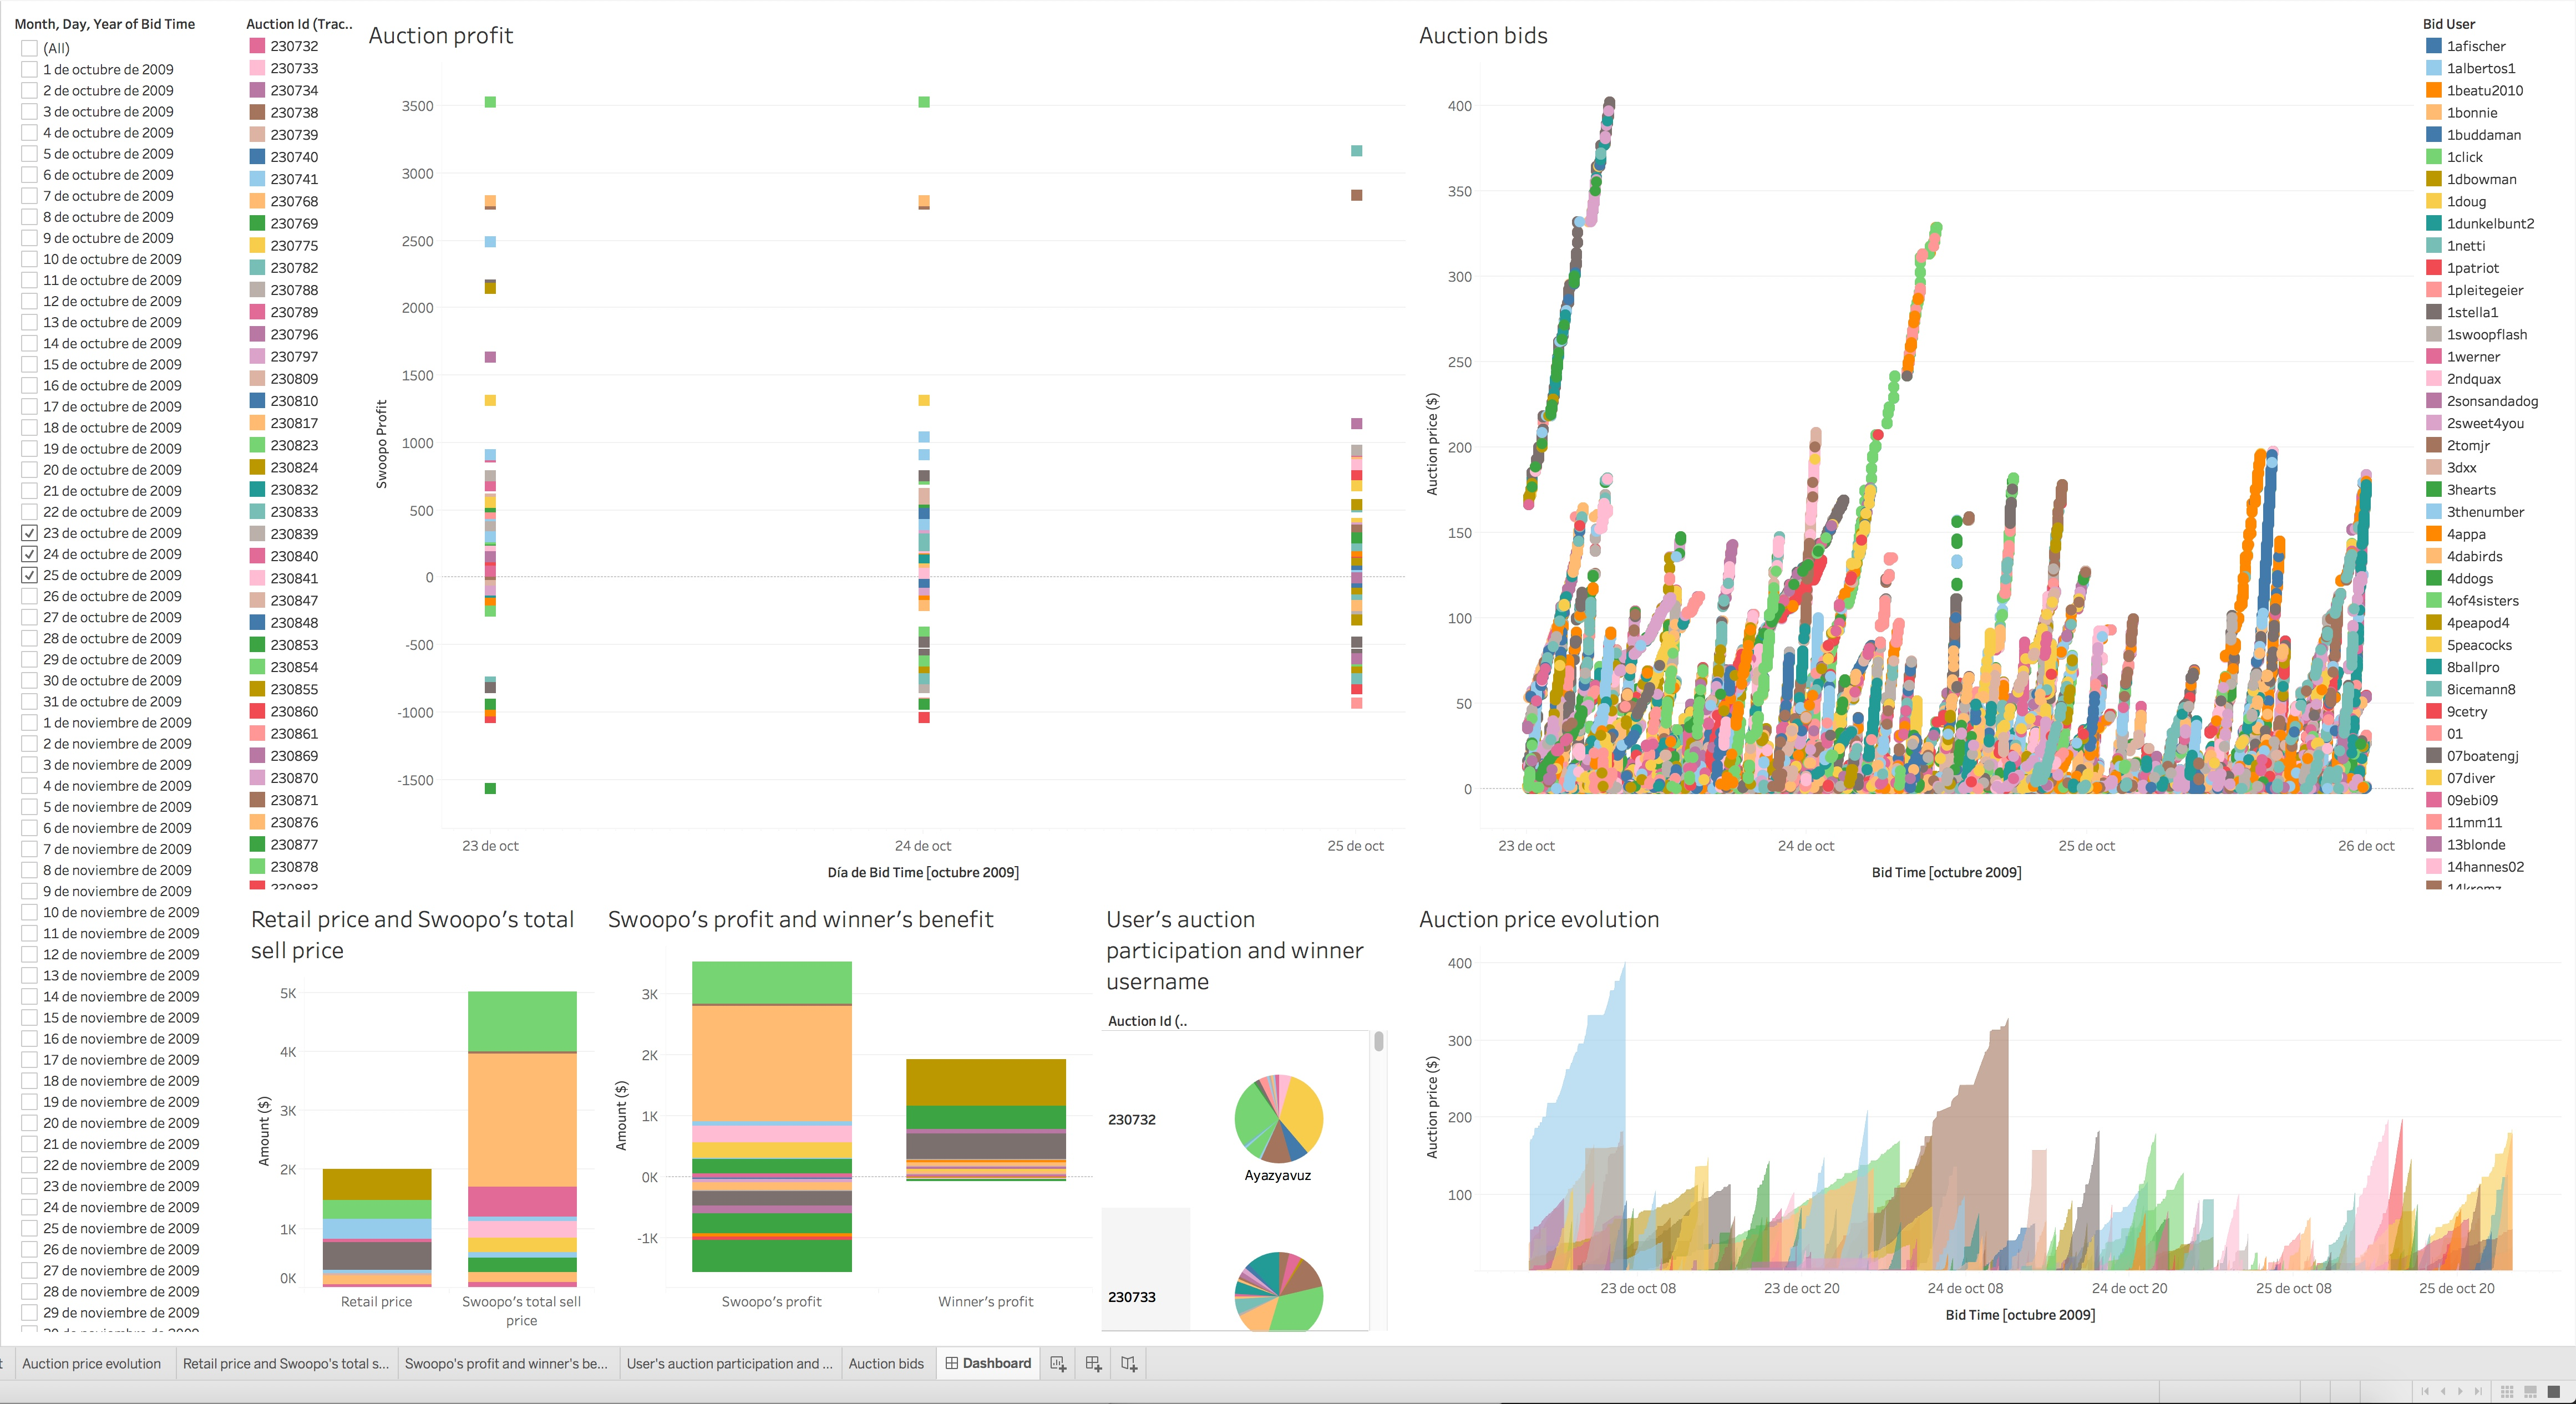

The dashboard page shown, as its layout file describes it:
{"tool":"tableau","page":{"name":"Dashboard","canvas":[1000,1000],"units":"permille","ordinal":0},"visuals":[{"type":"filter","title":"Auction profit","param":"[federated.0qq0jvo1fasi1912zp8rx17w9vlu].[md:bid_time:ok]","box":[3.5,6.6,90.1,986.8]},{"type":"legend","title":"Auction profit","param":"[federated.0qq0jvo1fasi1912zp8rx17w9vlu].[none:auction_id (traces_clean.tsv):ok]","box":[93.5,6.6,45.7,657.9]},{"type":"worksheet","title":"Auction profit","mark":"Square","rows":["swoopo_profit"],"cols":["bid_time"],"box":[139.2,6.6,408,657.9]},{"type":"worksheet","title":"Auction bids","mark":"Circle","rows":["bid_cp"],"cols":["bid_time"],"box":[547.3,6.6,392,657.9]},{"type":"legend","title":"User's auction participation and winner username","param":"[federated.0qq0jvo1fasi1912zp8rx17w9vlu].[none:bid_user:nk]","box":[939.2,6.6,57.3,657.9]},{"type":"worksheet","title":"Retail price and Swoopo's total sell price","mark":"Bar","box":[93.5,664.5,138.6,328.9]},{"type":"worksheet","title":"Swoopo's profit and winner's benefit","mark":"Bar","box":[232.1,664.5,193.7,328.9]},{"type":"worksheet","title":"User's auction participation and winner username","mark":"Pie","rows":["auction_id (traces_clean.tsv)"],"box":[425.9,664.5,121.5,328.9]},{"type":"worksheet","title":"Auction price evolution","mark":"Area","rows":["bid_cp"],"cols":["bid_time"],"box":[547.4,664.5,449.1,328.9]}]}

Visuals, with their boxes on the dashboard's canvas, which has no fixed pixel size, in thousandths of its width and height (x1, y1, x2, y2). These are canvas units, not pixel positions in the 2576x1404 screenshot, which may show the page scaled, cropped or inside an application window:
"Auction profit" filter: x1=4, y1=7, x2=94, y2=993
"Auction profit" legend: x1=94, y1=7, x2=139, y2=664
"Auction profit" worksheet (Square marks): x1=139, y1=7, x2=547, y2=664
"Auction bids" worksheet (Circle marks): x1=547, y1=7, x2=939, y2=664
"User's auction participation and winner username" legend: x1=939, y1=7, x2=996, y2=664
"Retail price and Swoopo's total sell price" worksheet (Bar marks): x1=94, y1=664, x2=232, y2=993
"Swoopo's profit and winner's benefit" worksheet (Bar marks): x1=232, y1=664, x2=426, y2=993
"User's auction participation and winner username" worksheet (Pie marks): x1=426, y1=664, x2=547, y2=993
"Auction price evolution" worksheet (Area marks): x1=547, y1=664, x2=996, y2=993
